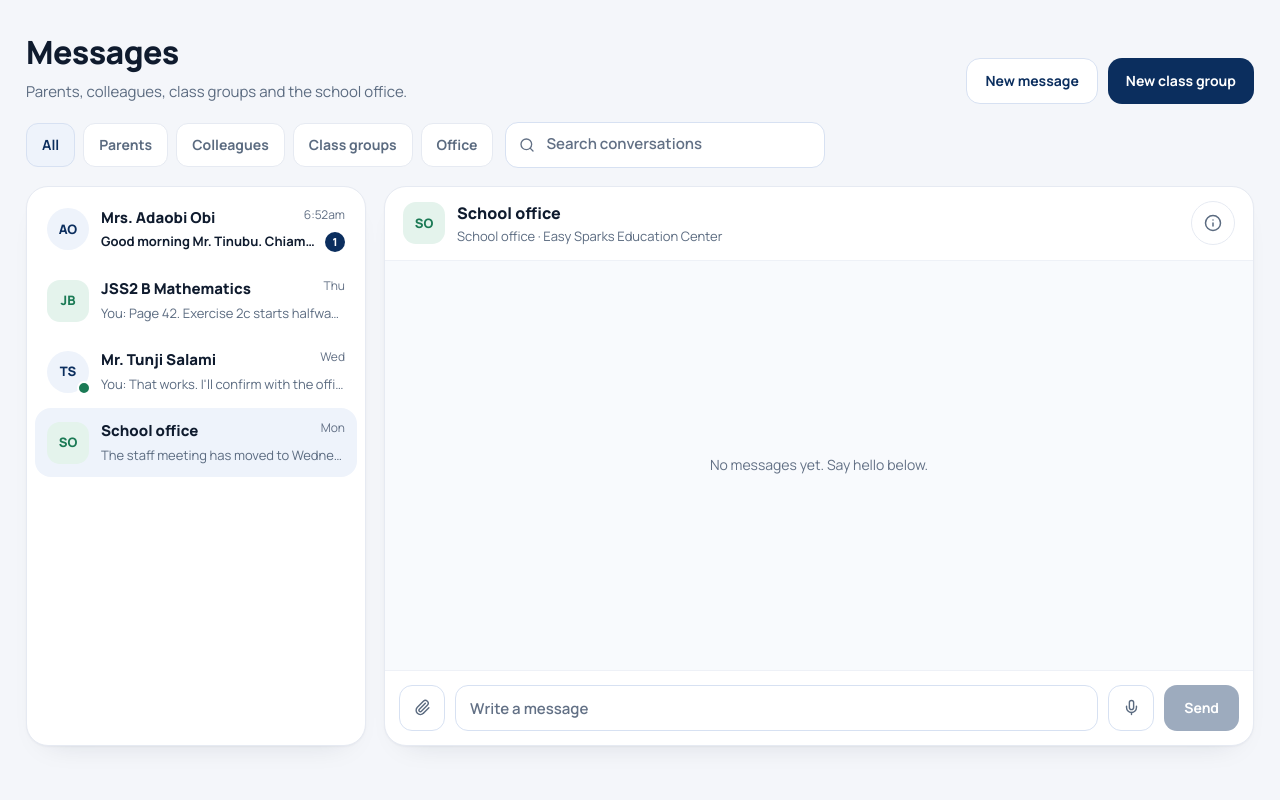
Scenario: the info modal › has no description editor for the office or a direct chat
The image size is (1280, 800).
Click the button named "Conversation info" at coordinates (1213, 223), box x1=1191 y1=201 x2=1235 y2=245
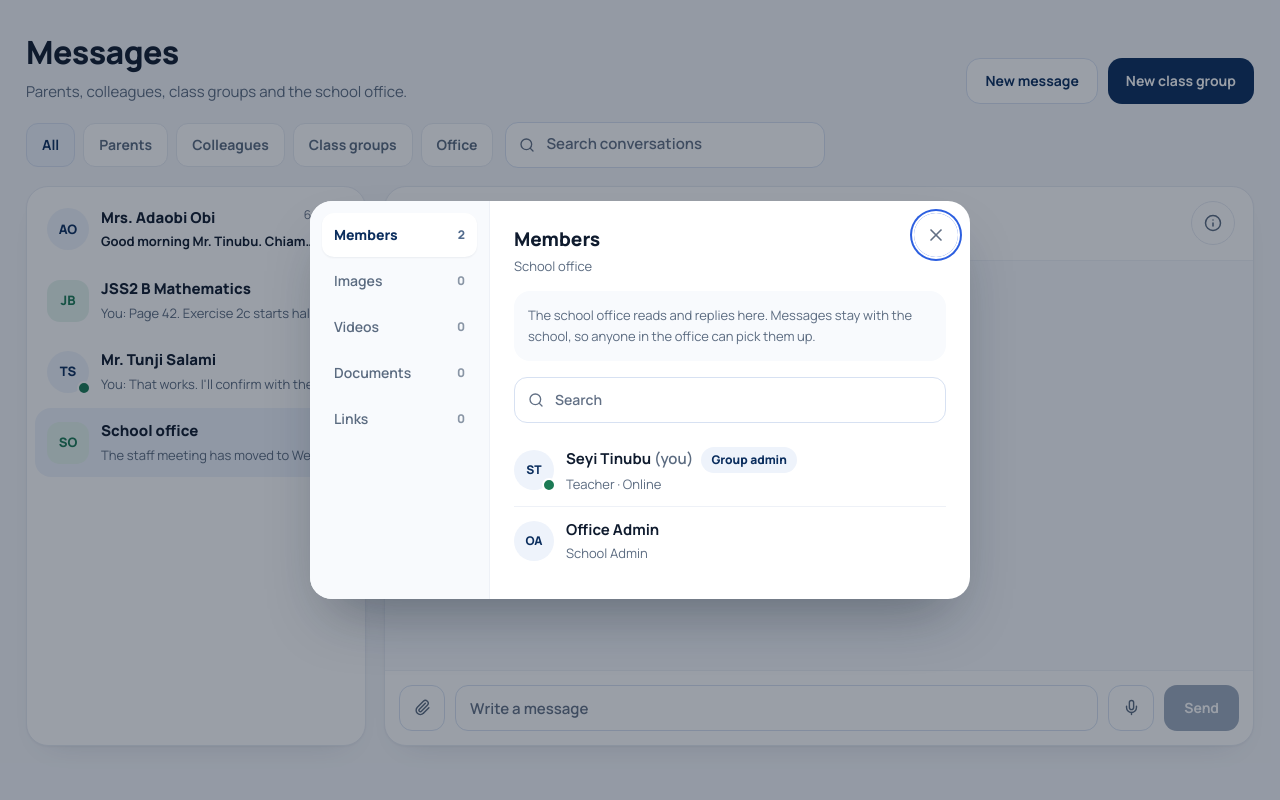
Expected: the text "The school office reads and replies here" is shown, x1=528 y1=306 x2=912 y2=345
